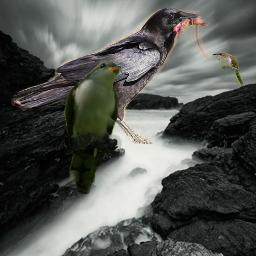Crow: (11, 3, 221, 144)
Cuckoo: (64, 60, 122, 194), (212, 52, 243, 85)
